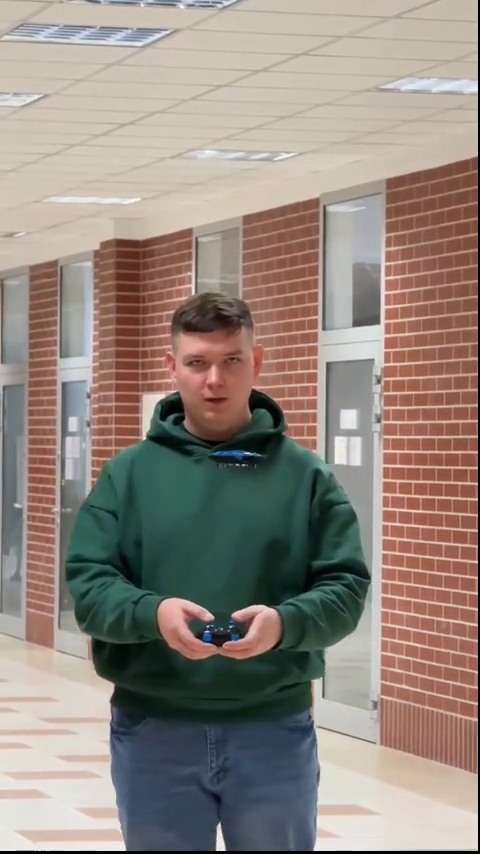drone: (206, 445, 264, 470)
no vest: (75, 292, 372, 828)
